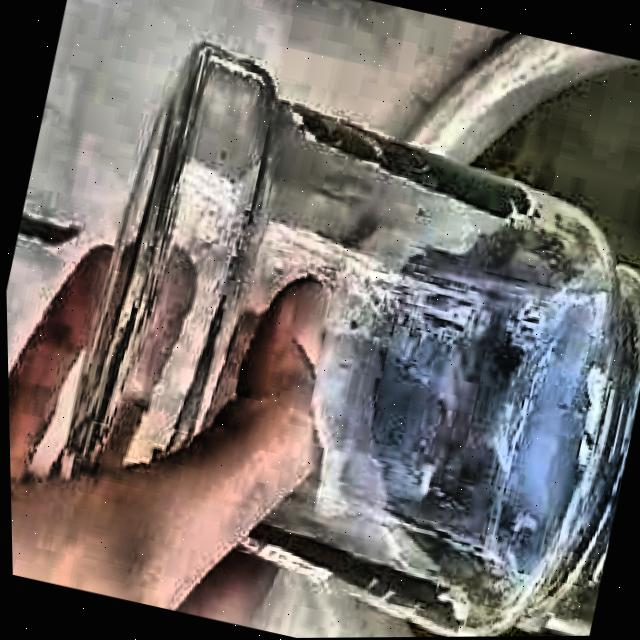glass: (61, 45, 640, 637)
